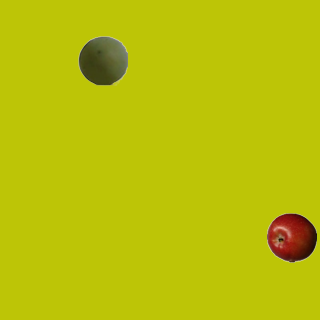Apple Braeburn: (266, 212, 316, 262)
Grape White 4: (77, 35, 127, 85)
